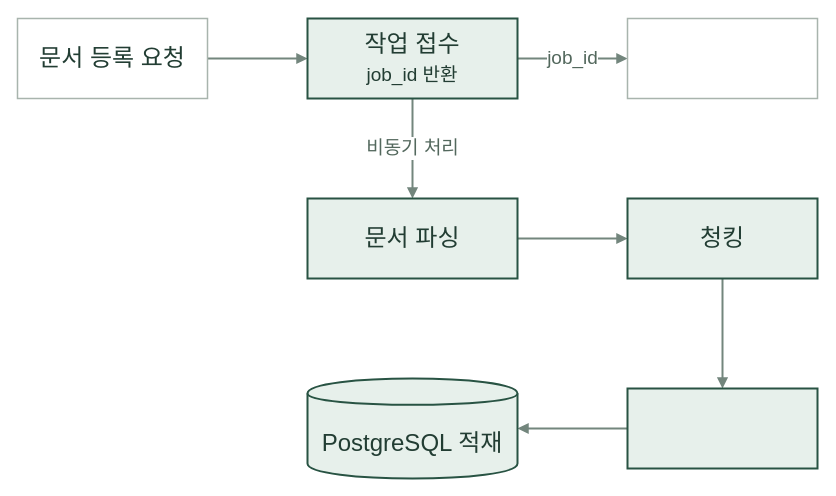
Image size: 836x496. Some labels were removed from this diagram. The centre of each missing label's shape, as x and y in pixels:
"임베딩" belongs at pixel 722 428.
"처리 상태 조회" belongs at pixel 722 58.
